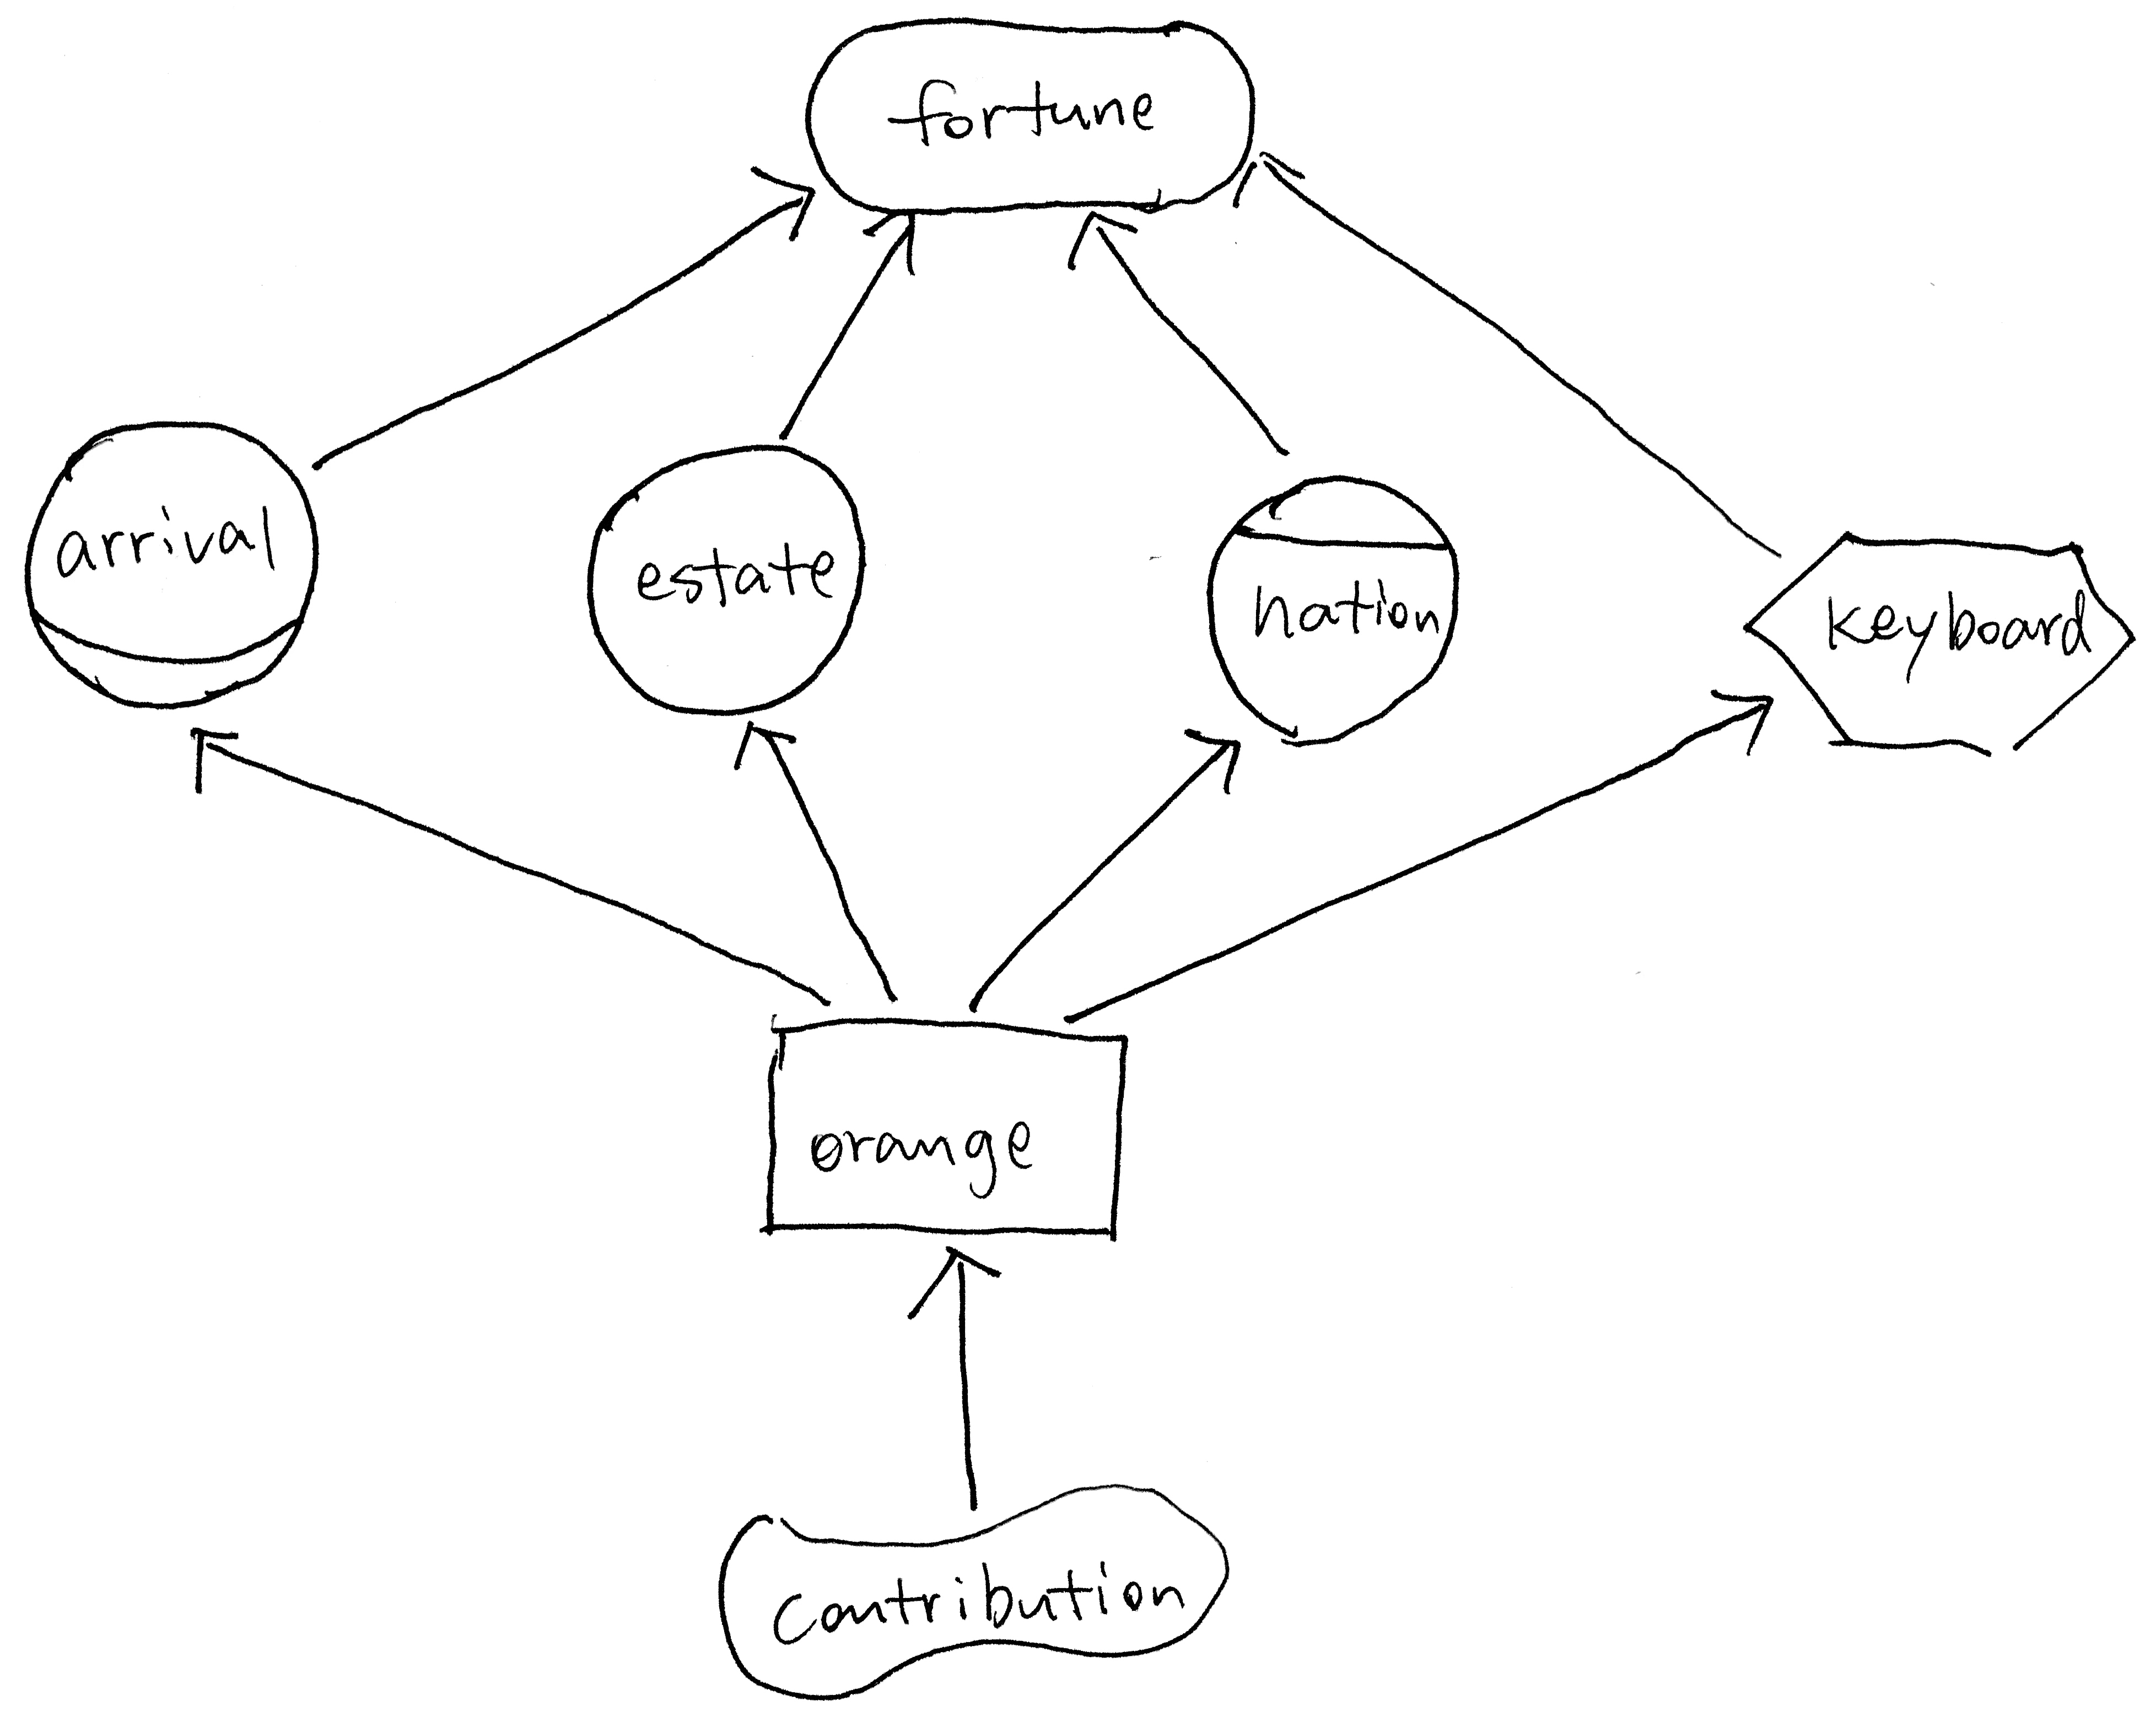actor: (564, 425, 888, 737)
agent: (1179, 455, 1471, 769)
arrow: (722, 147, 835, 261), (1694, 667, 1802, 781), (893, 1231, 1014, 1331), (158, 707, 257, 811), (1173, 704, 1272, 809), (701, 709, 821, 793), (855, 191, 941, 296), (1054, 200, 1154, 275), (1226, 135, 1321, 214)
goal: (795, 5, 1284, 226)
quality: (692, 1464, 1254, 1705)
resource: (727, 996, 1163, 1257)
role: (14, 396, 338, 725)
task: (1723, 511, 2154, 769)
